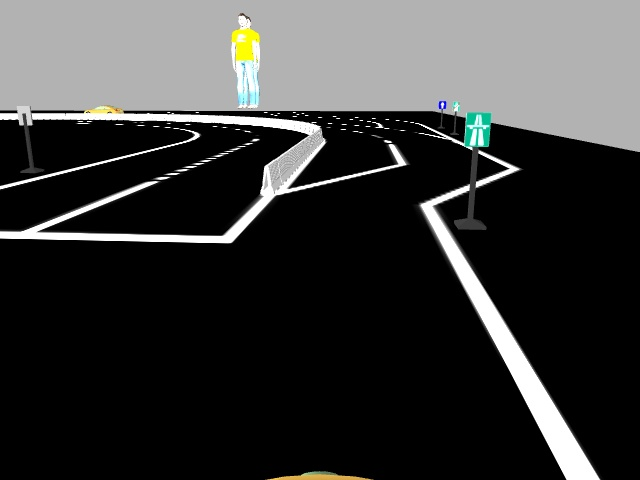HighwayEntrance: (463, 109, 492, 147)
